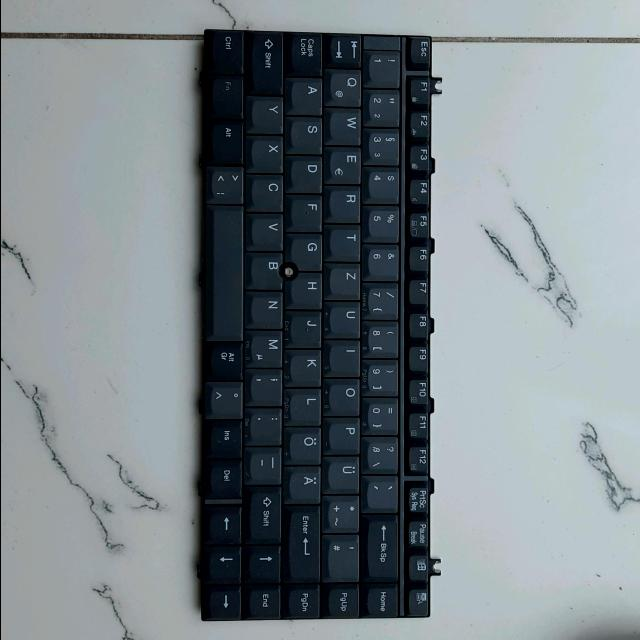0: (365, 398, 401, 432)
1: (364, 53, 400, 89)
2: (365, 88, 403, 125)
3: (365, 127, 402, 163)
4: (368, 167, 402, 200)
5: (368, 204, 402, 237)
6: (366, 243, 402, 278)
7: (366, 283, 402, 316)
8: (364, 320, 402, 354)
9: (365, 359, 401, 393)
a: (289, 77, 325, 113)
accent: (366, 475, 400, 509)
ae: (289, 464, 323, 500)
alt-left: (209, 119, 246, 161)
altgr-right: (208, 340, 246, 378)
b: (248, 251, 286, 289)
c: (250, 173, 286, 211)
caret: (206, 380, 246, 418)
comma: (249, 368, 285, 404)
d: (289, 155, 325, 192)
del: (367, 514, 401, 578)
e: (327, 146, 364, 184)
enter: (287, 503, 323, 581)
f: (289, 194, 325, 230)
g: (291, 233, 325, 269)
h: (291, 271, 325, 307)
hash: (326, 534, 362, 581)
i: (330, 339, 363, 373)
j: (289, 311, 324, 345)
k: (290, 349, 324, 383)
keyboard: (195, 22, 441, 626)
l: (289, 388, 323, 423)
less: (207, 165, 247, 203)
m: (249, 328, 285, 366)
minus: (249, 446, 284, 482)
n: (251, 290, 285, 326)
o: (329, 377, 363, 413)
oe: (289, 427, 323, 461)
p: (329, 417, 363, 451)
plus: (326, 493, 362, 530)
point: (249, 407, 285, 445)
q: (326, 67, 364, 105)
r: (329, 186, 363, 220)
s: (289, 115, 326, 153)
shift-left: (250, 29, 286, 93)
shift-lock: (289, 31, 325, 73)
shift-right: (247, 485, 285, 543)
space: (208, 206, 246, 339)
ss: (365, 435, 401, 471)
strg-left: (206, 27, 246, 73)
t: (329, 225, 363, 259)
tab: (325, 33, 363, 65)
u: (329, 301, 363, 334)
ue: (327, 454, 363, 490)
v: (250, 213, 286, 249)
w: (329, 107, 364, 143)
x: (250, 135, 286, 171)
y: (250, 95, 286, 133)
z: (329, 263, 363, 296)
